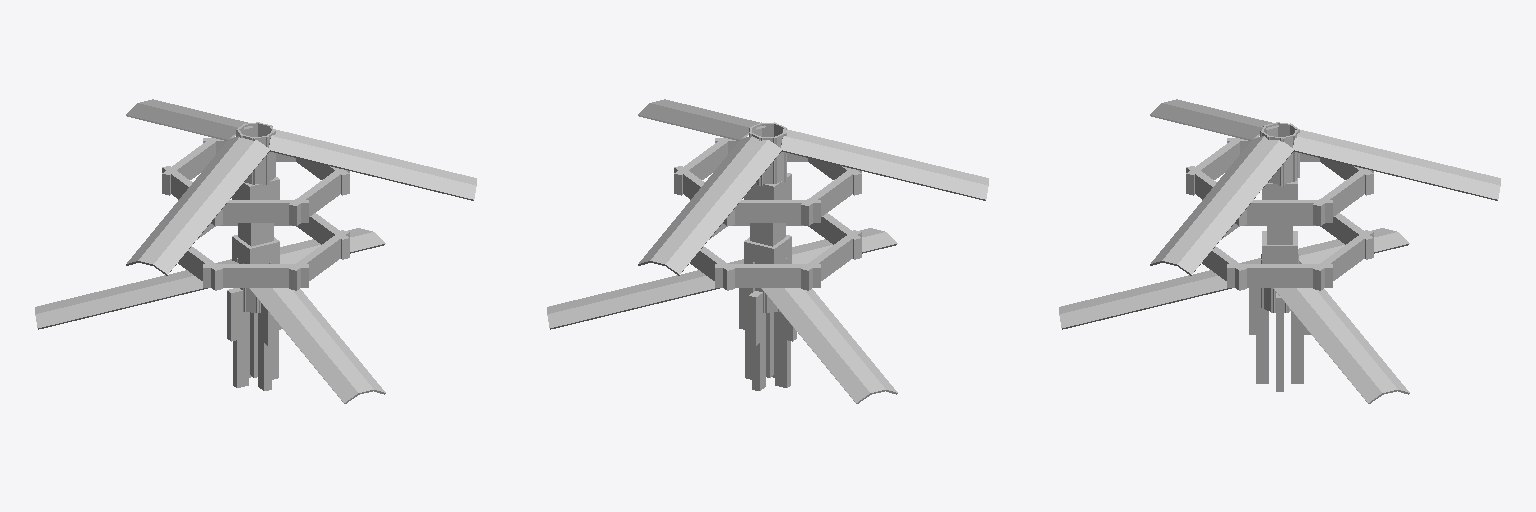
Rendered from spacelj.obj.
3 views of the same model, side by side, from view 1: azimuth 30°, elevation 25°; view 2: azimuth 150°, elevation 25°; view 3: azimuth 270°, elevation 25° (orthographic).
Visible parts, largest first — view 1: cube.054, cube.059, cube.036, cube.041, cube.058, cube.005, cube.040, cube.010, cube.053, cube.055, cube.004, cube.006 (+17 smaller); view 2: cube.057, cube.053, cube.039, cube.034, cube.052, cube.002, cube.035, cube.008, cube.056, cube.058, cube.003, cube.007 (+16 smaller); view 3: cube.051, cube.056, cube.042, cube.037, cube.055, cube.001, cube.038, cube.011, cube.059, cube.052, cube, cube.040 (+16 smaller).
Part boxes in pixels (x1,y1,x2,y2): cube.054: (269,136,476,200); cube.059: (153,140,269,275); cube.036: (35,276,207,329); cube.041: (249,288,358,403); cube.058: (138,137,253,265); cube.005: (203,264,308,287); cube.040: (273,288,373,394); cube.010: (223,200,308,222); cube.053: (126,103,237,140); cube.055: (270,129,476,185); cube.004: (289,230,349,290); cube.006: (289,168,349,226); cube.057: (781,136,988,200); cube.053: (665,140,781,275); cube.039: (547,276,719,329); cube.034: (761,288,870,403); cube.052: (650,136,766,265); cube.002: (715,264,820,287); cube.035: (785,288,885,394); cube.008: (735,200,820,222); cube.056: (638,103,749,140); cube.058: (782,129,988,185); cube.003: (801,230,861,290); cube.007: (801,169,861,226); cube.051: (1293,136,1500,200); cube.056: (1177,140,1293,275); cube.042: (1059,276,1231,329); cube.037: (1273,288,1382,403); cube.055: (1162,136,1278,265); cube.001: (1227,264,1332,287); cube.038: (1297,288,1397,394); cube.011: (1247,200,1332,222); cube.059: (1150,103,1262,140); cube.052: (1294,129,1500,185); cube: (1313,230,1373,290); cube.040: (1059,258,1261,313).
Size of the model in its own units: 11.34 by 7.81 by 12.44.